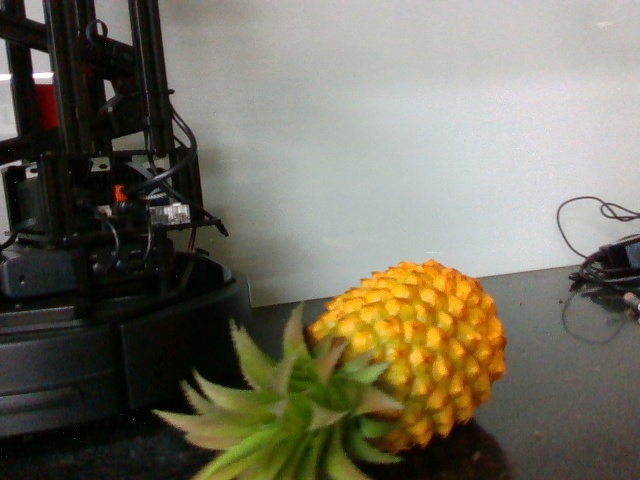pineapple: (181, 256, 507, 480)
